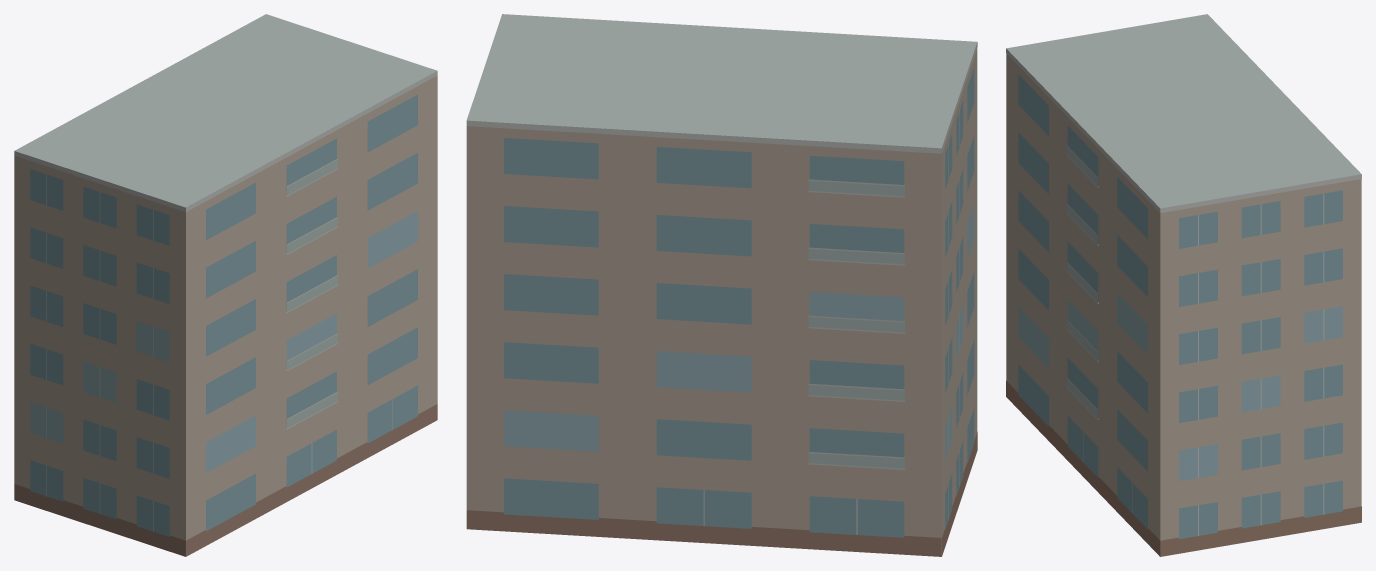
The model's file is survey-upis-32861278.glb.
3 renders of one model, left to right at view 1: azimuth 30°, elevation 25°; view 2: azimuth 150°, elevation 25°; view 3: azimuth 270°, elevation 25°, orthographic. The views are drawn at different scales.
Visible parts, largest first — view 1: survey-upis-32861278.tmp; view 2: survey-upis-32861278.tmp; view 3: survey-upis-32861278.tmp.
Boxes of the visible parts, x1,y1,x2,y2 form: survey-upis-32861278.tmp: (14,14,437,556); survey-upis-32861278.tmp: (466,14,977,556); survey-upis-32861278.tmp: (1006,14,1361,556).
Size of the model in its own units: 21.92 by 18.3 by 16.94.
